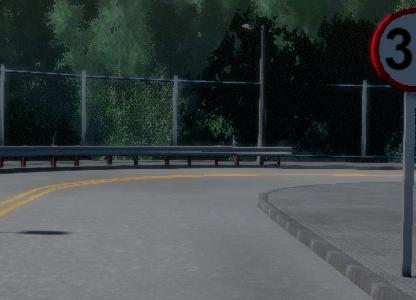Speed_30: (367, 6, 416, 94)
